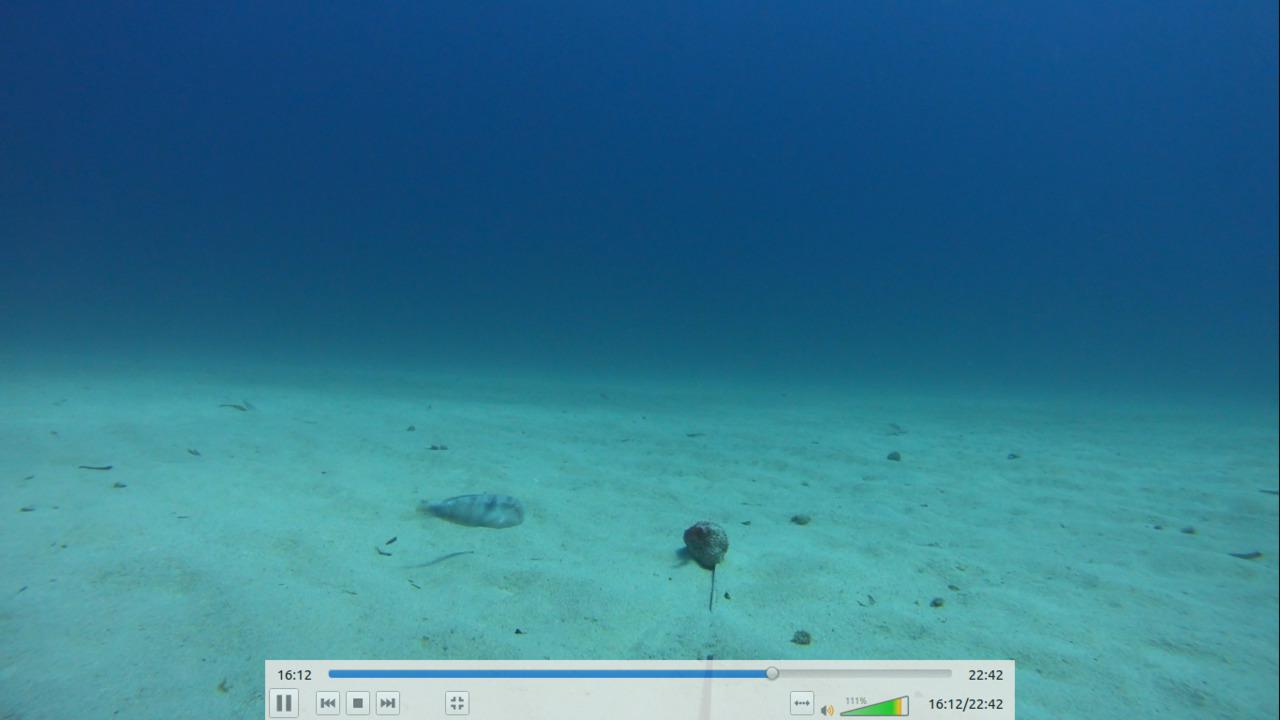raor: (402, 486, 528, 532)
